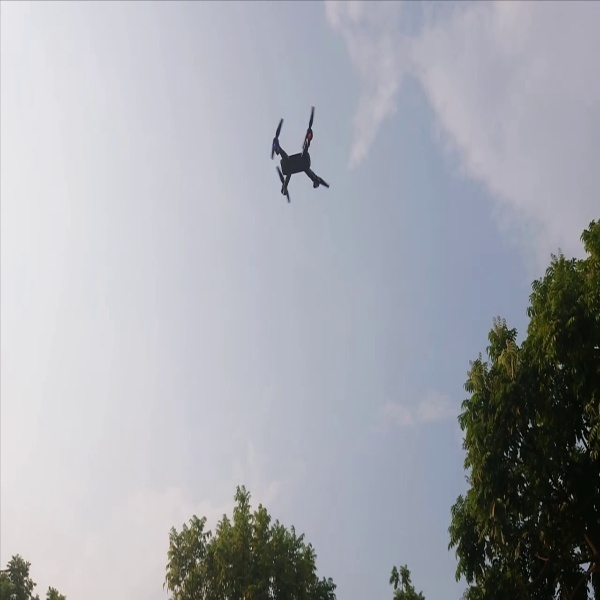drone: (266, 99, 333, 210)
